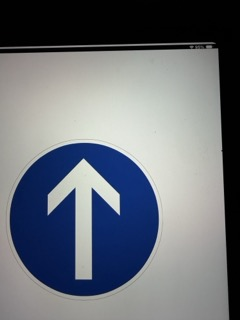GO FORWARD: (9, 141, 160, 296)
